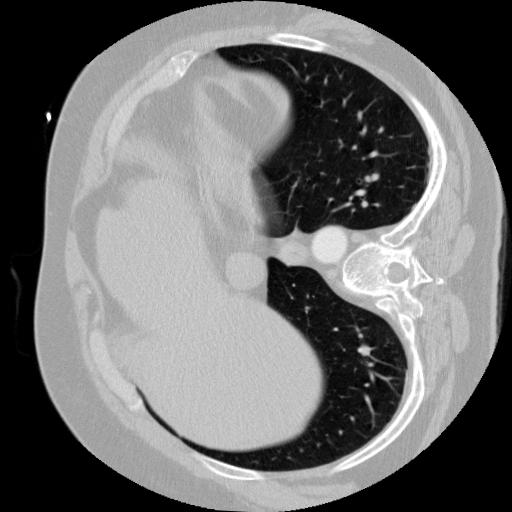nodule: (355, 341, 374, 360)
